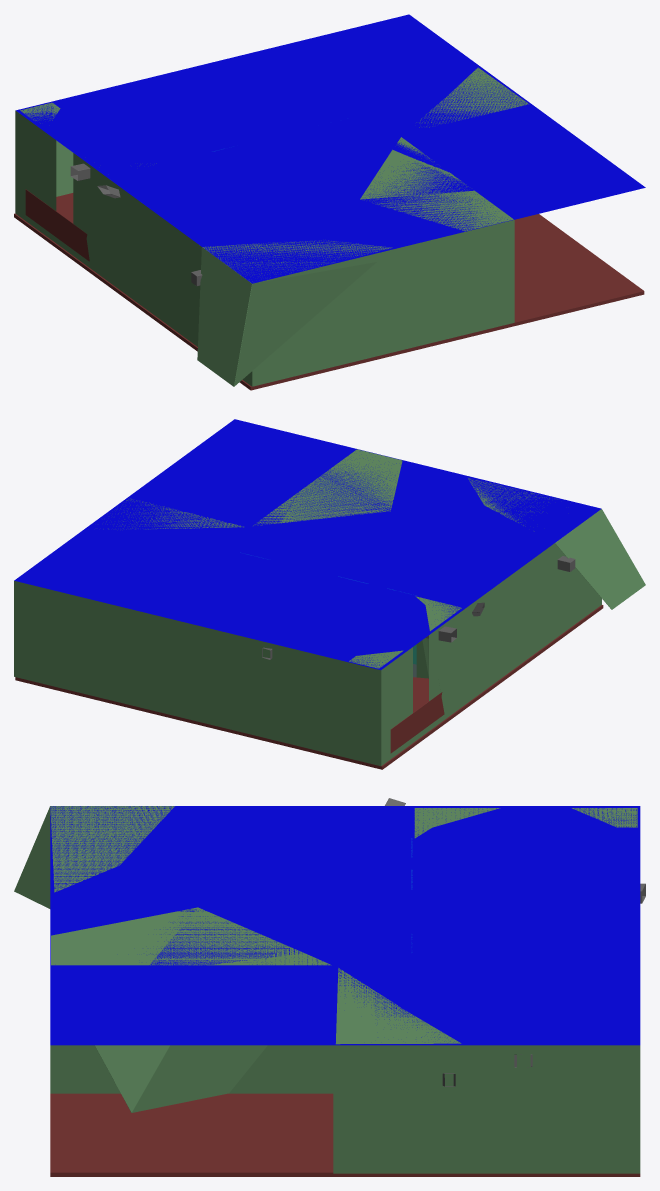
The model's file is Nivel_Tuto_FINAL (1).fbx.
The picture shows the model from 3 angles, top to bottom: view 1: azimuth 30°, elevation 25°; view 2: azimuth 150°, elevation 25°; view 3: azimuth 270°, elevation 25°; orthographic projection. The views are drawn at different scales.
Visible parts, largest first — view 1: NIVEL_TUTO_FINAL; view 2: NIVEL_TUTO_FINAL; view 3: NIVEL_TUTO_FINAL.
Boxes of the visible parts, x1,y1,x2,y2 form: NIVEL_TUTO_FINAL: (14,14,645,390); NIVEL_TUTO_FINAL: (14,419,645,769); NIVEL_TUTO_FINAL: (14,798,645,1176).
Bounding box in the file's own units: 13.07 × 3.93 × 13.39.
